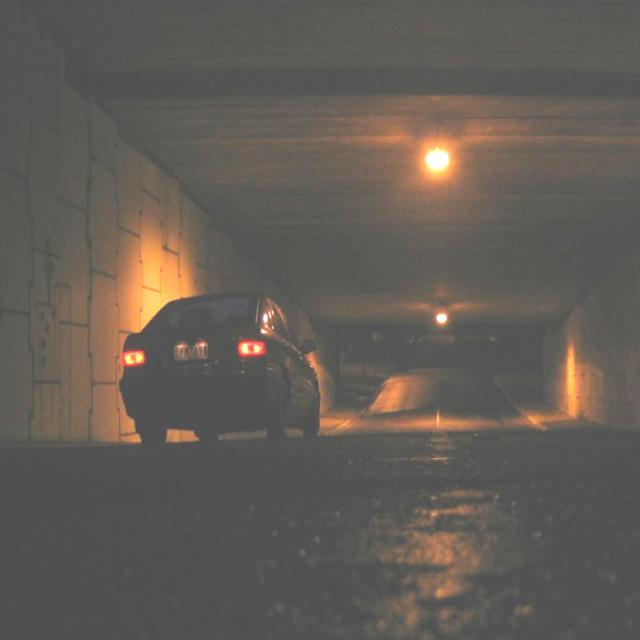Car: (114, 285, 322, 460)
